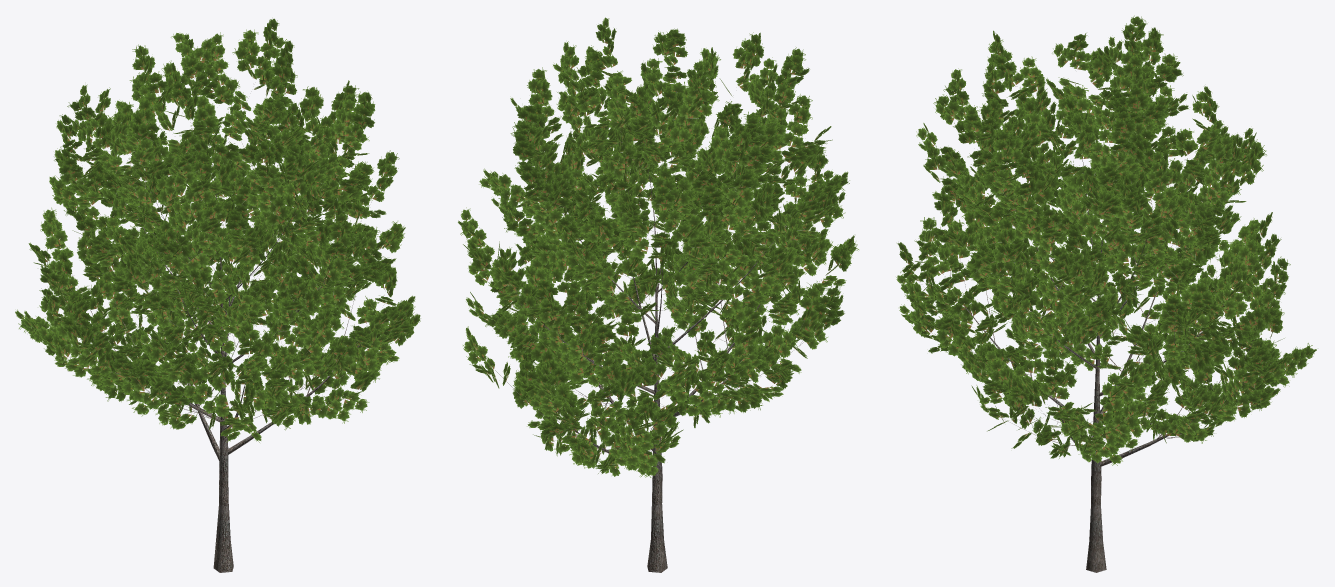
Rendered from tree.glb.
The picture shows the model from 3 angles, left to right: view 1: azimuth 30°, elevation 25°; view 2: azimuth 150°, elevation 25°; view 3: azimuth 270°, elevation 25°; orthographic projection.
Visible parts, largest first — view 1: Material2 (×2); view 2: Material2 (×2); view 3: Material2 (×2).
Part boxes in pixels (x1=…): Material2 (×2): x1=15, y1=18, x2=420, y2=572; Material2 (×2): x1=458, y1=17, x2=858, y2=572; Material2 (×2): x1=896, y1=15, x2=1316, y2=572.
Bounding box in the file's own units: 239 × 325 × 242.
Materials: 2 (2 with a texture image).
